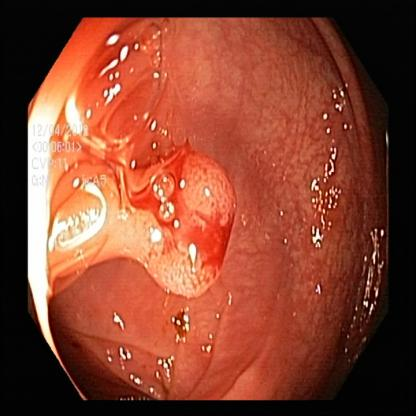Labels: (28, 112, 134, 222)
Polyps: (142, 151, 235, 299)
